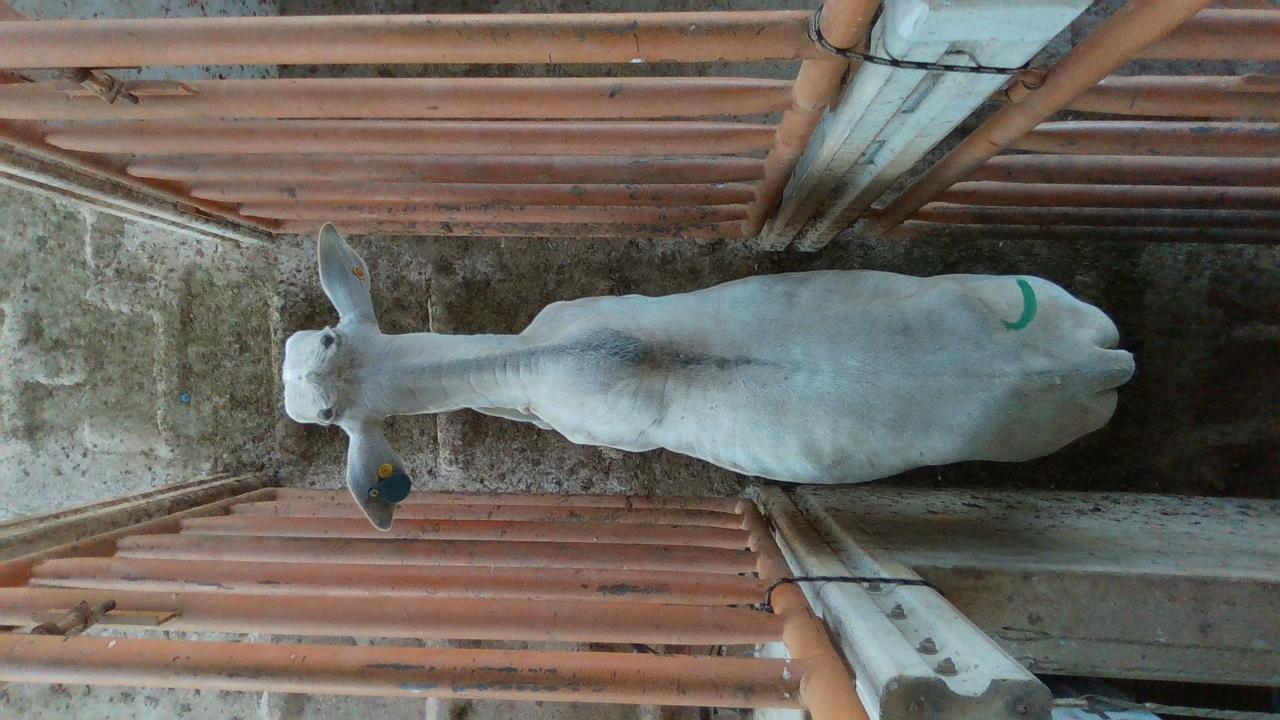cattle: (279, 219, 1136, 531)
